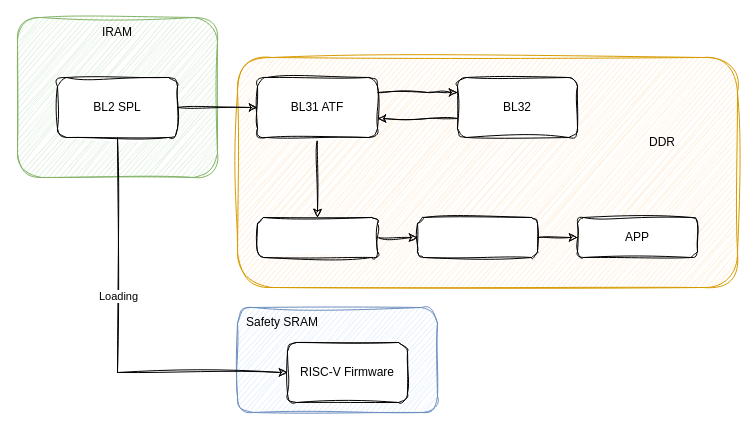
This 755x430 diagram has some shape labels left out. The box of each missing label's shape, as (x1, y1, x2, y2) in pixels:
Kernel: (416, 216, 538, 258)
U-Boot: (256, 216, 378, 258)
